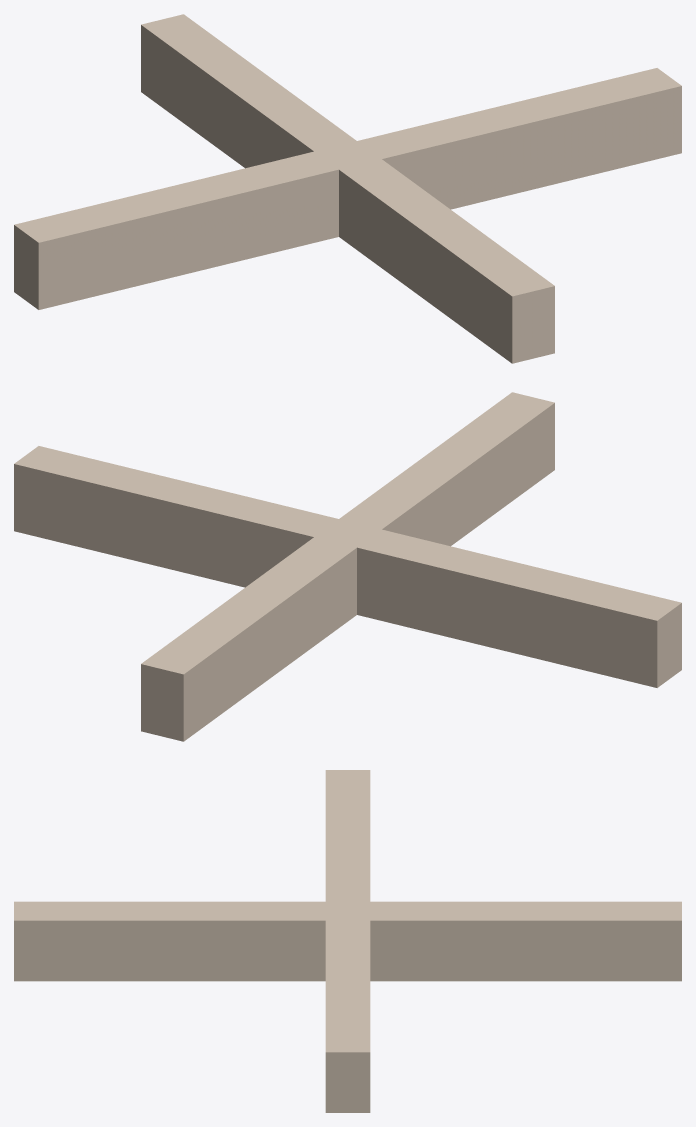
Rendered from ziggurat_complex.glb.
The picture shows the model from 3 angles, top to bottom: view 1: azimuth 30°, elevation 25°; view 2: azimuth 150°, elevation 25°; view 3: azimuth 270°, elevation 25°; orthographic projection. The views are drawn at different scales.
Visible parts, largest first — view 1: Ziggurat_Complex_West_Wall; view 2: Ziggurat_Complex_West_Wall; view 3: Ziggurat_Complex_West_Wall.
Boxes of the visible parts, x1,y1,x2,y2 form: Ziggurat_Complex_West_Wall: [14, 14, 681, 363]; Ziggurat_Complex_West_Wall: [14, 392, 681, 741]; Ziggurat_Complex_West_Wall: [14, 770, 681, 1112].
Bounding box in the file's own units: 900 × 90 × 900.
